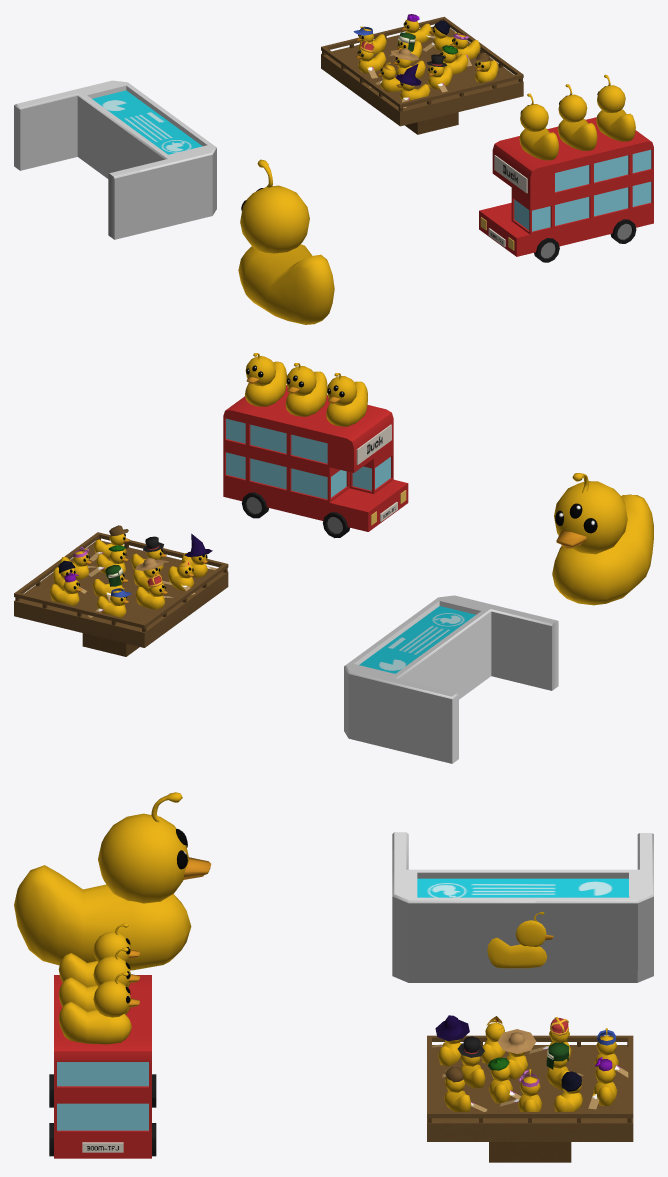
Rendered from Duck Tile.fbx.
The picture shows the model from 3 angles, top to bottom: view 1: azimuth 30°, elevation 25°; view 2: azimuth 150°, elevation 25°; view 3: azimuth 270°, elevation 25°; orthographic projection. The views are drawn at different scales.
Parts seen in each view (by area): view 1: Object005; view 2: Object005; view 3: Object005.
Part boxes in pixels (bbox=[...]): Object005: bbox=[14, 14, 653, 324]; Object005: bbox=[14, 353, 653, 763]; Object005: bbox=[14, 792, 653, 1162].
Size of the model in its own units: 242 by 82.16 by 244.
1 material, 1 textured.
